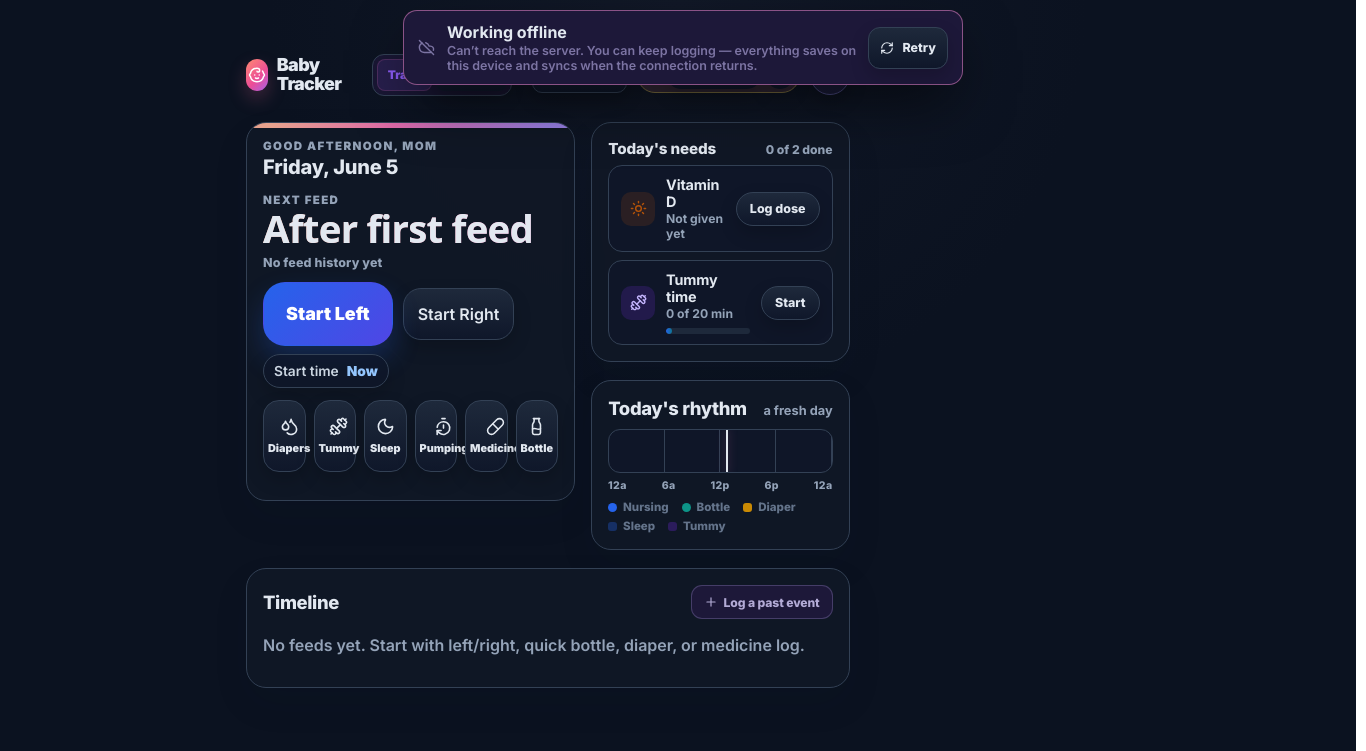
it: App interactions › starts a session from the minutes-ago tab
Click the button with aria-label "Adjust start time": point(326, 371) [263,354,389,388]
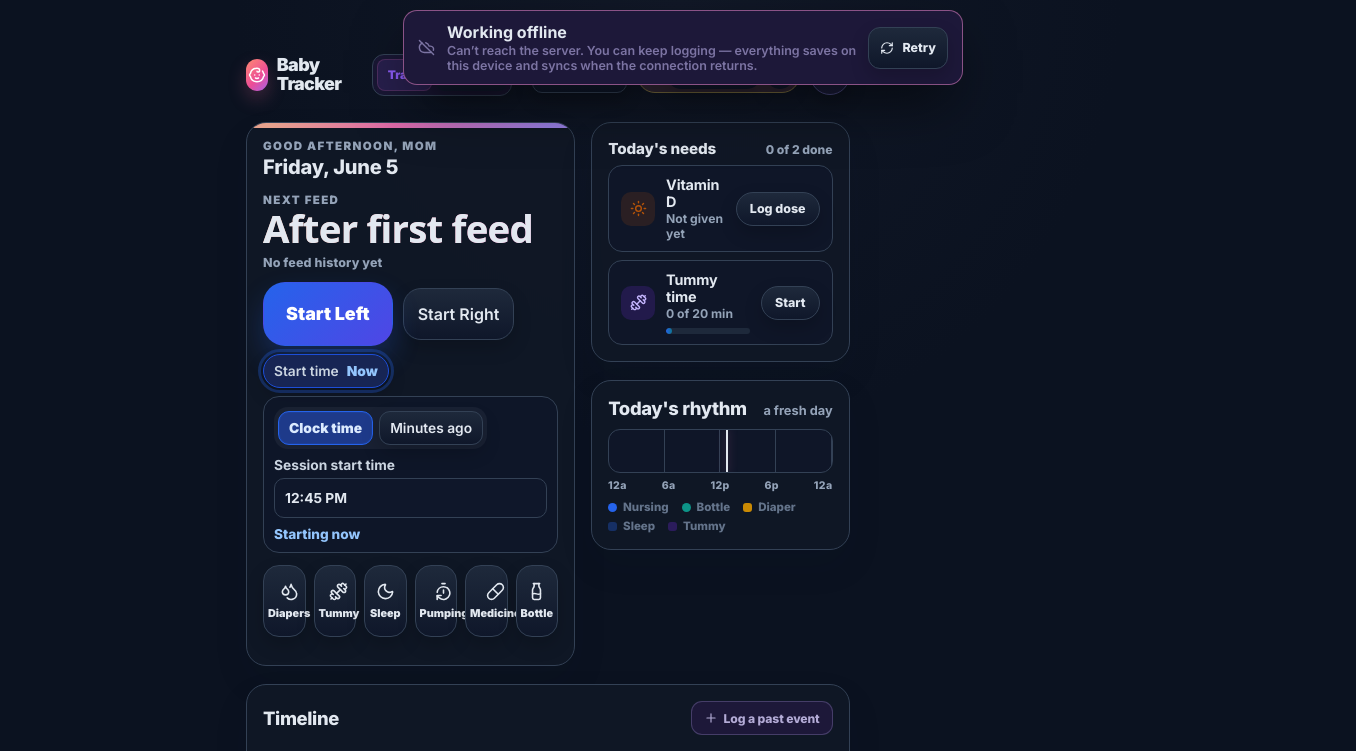
Click the tab "Minutes ago": point(431, 428) [379,411,483,445]
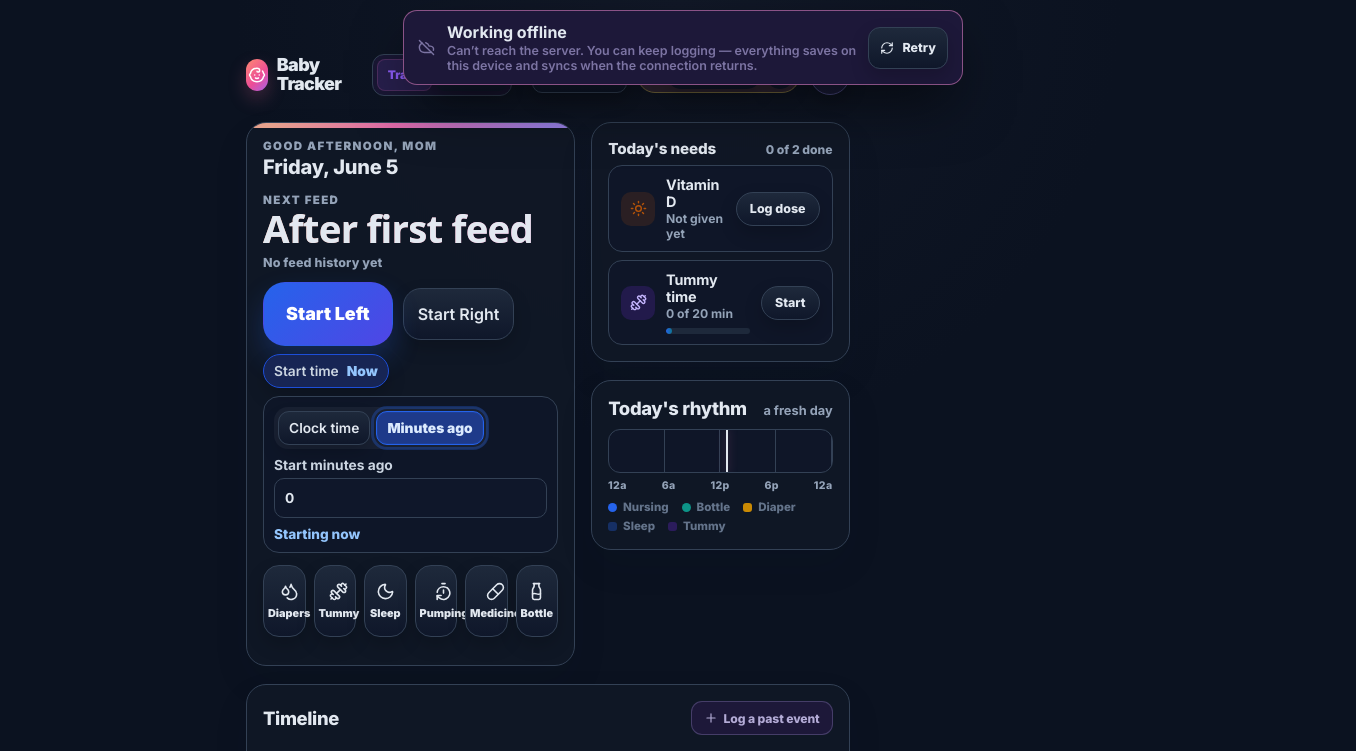
Replace the text in the field labelled "Start minutes ago" with "5": point(410, 498) [274,478,547,518]
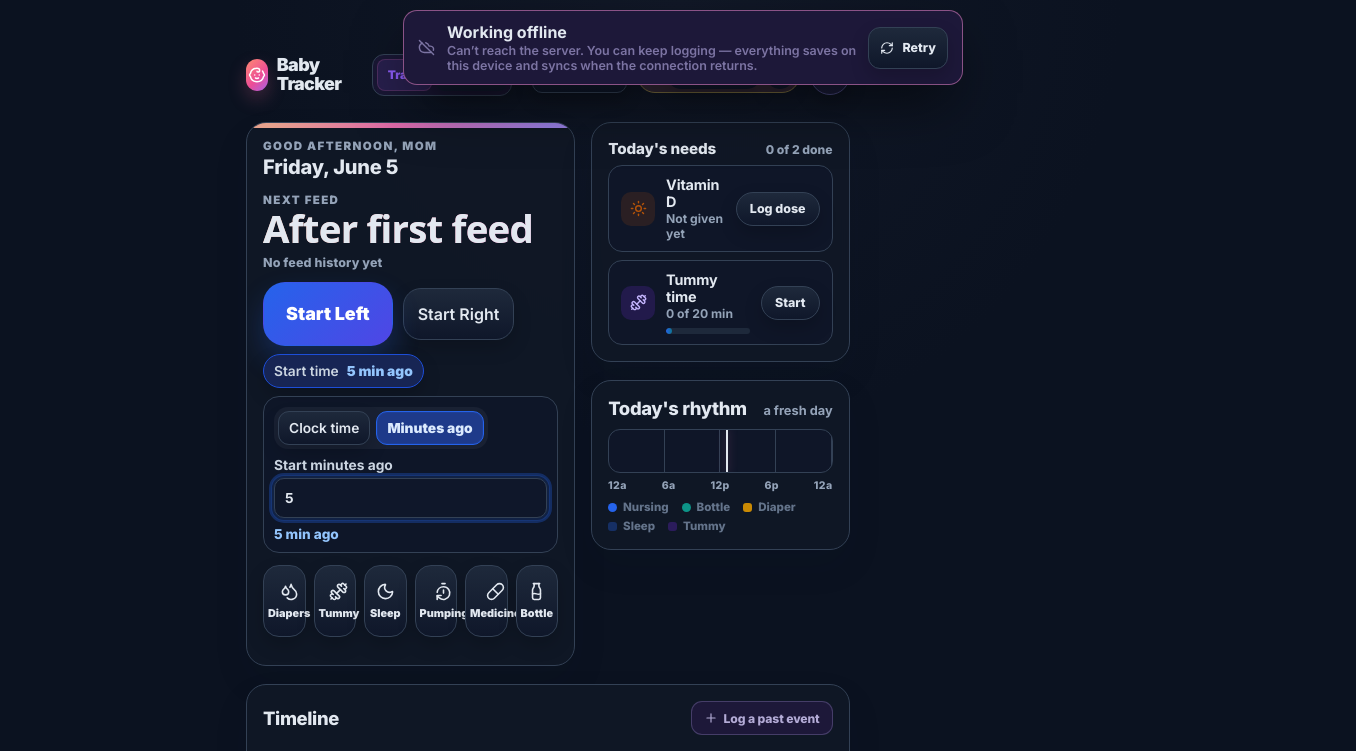
Click the button with aria-label "Start suggested side: Left": point(328, 314) [263,282,393,346]
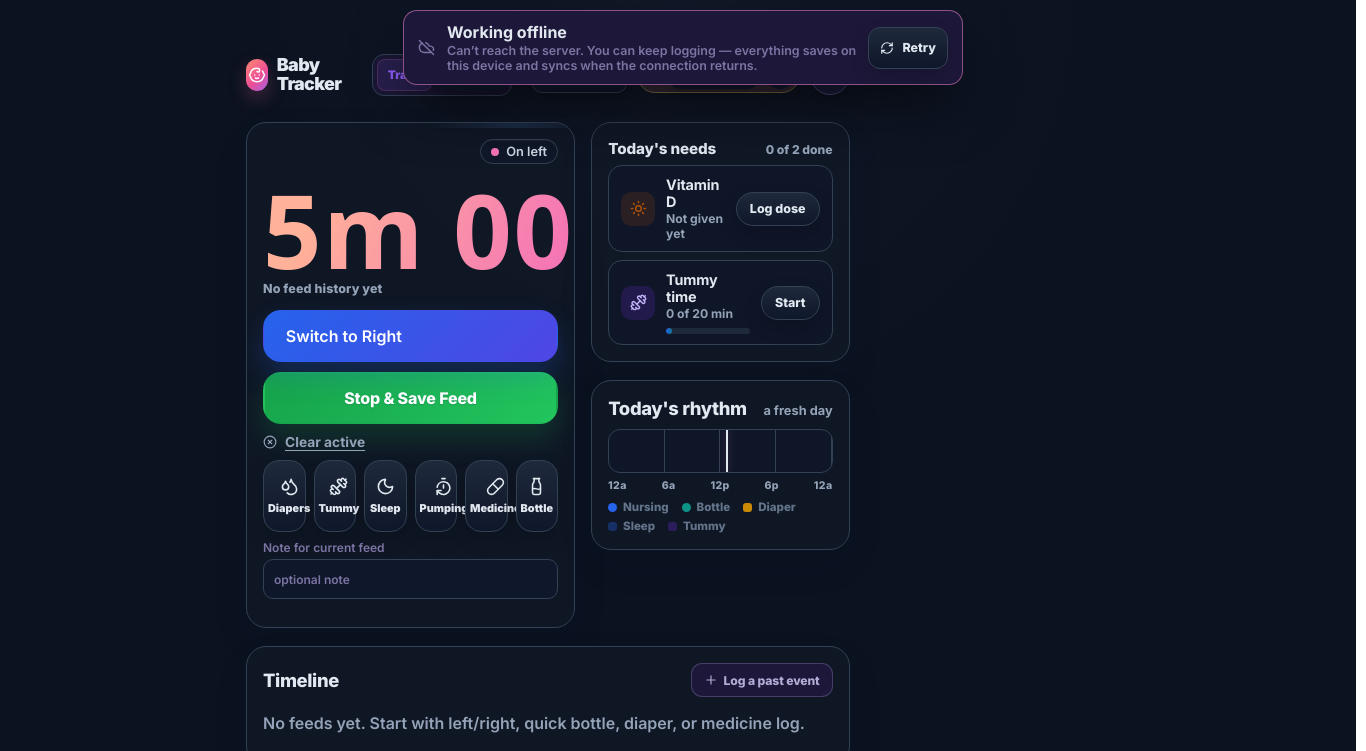
Expected: the text "5m 00s" is shown, [263,185,575,275]
